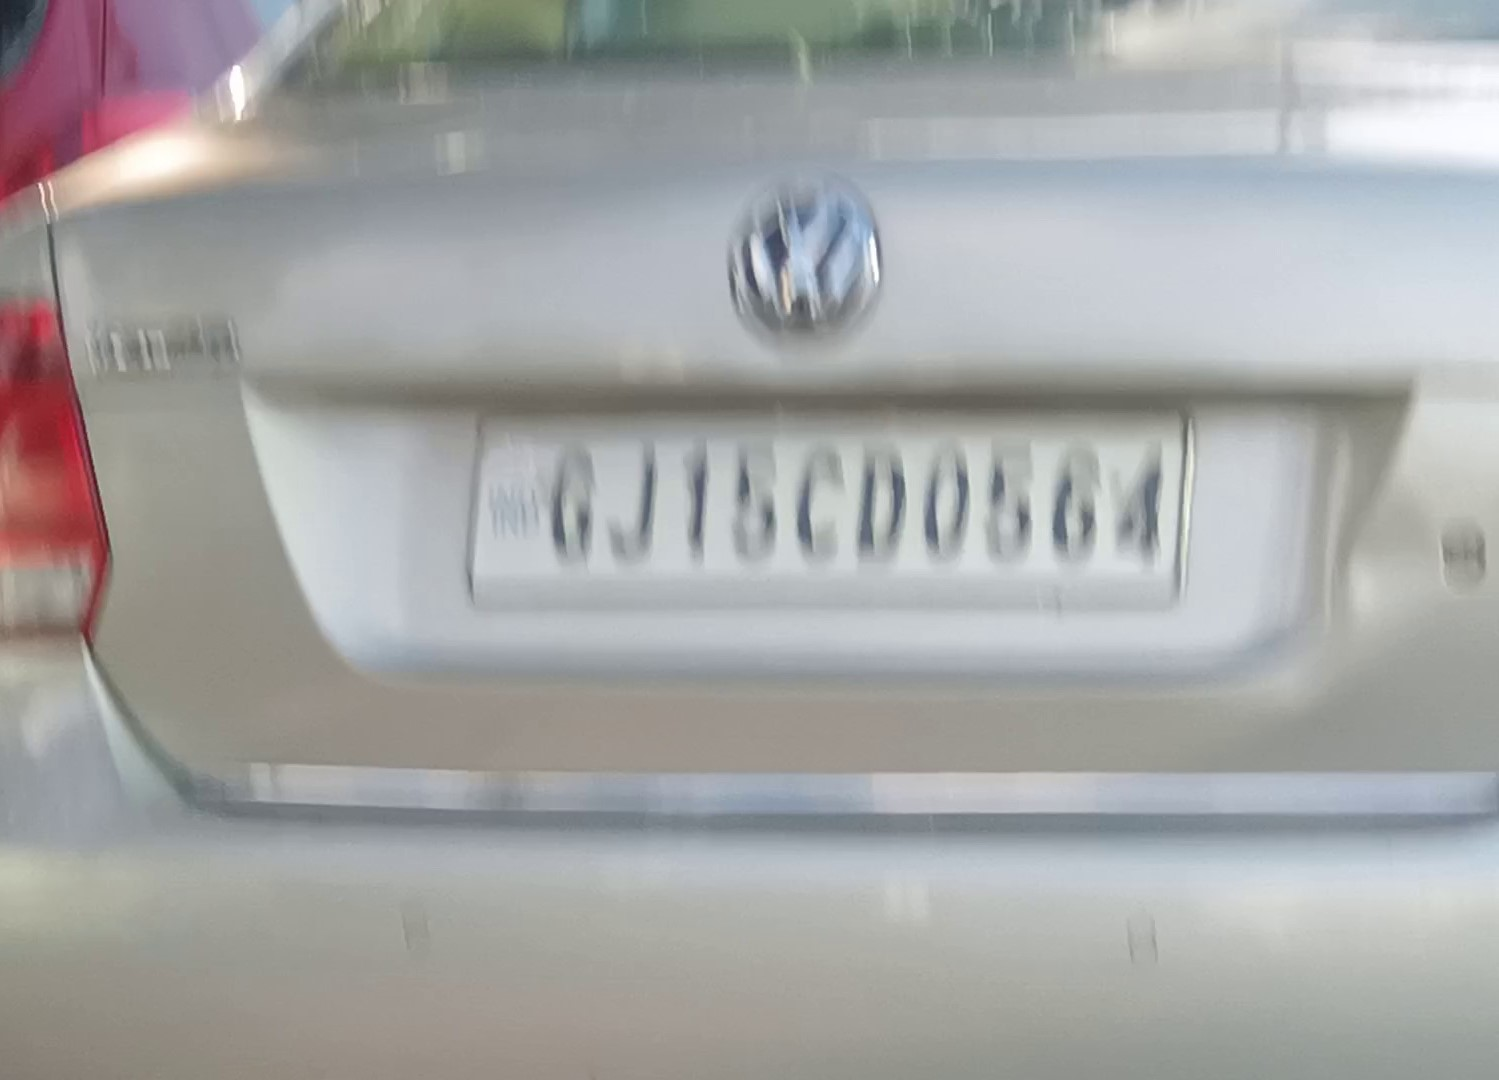GJ15D0564: (471, 421, 1190, 611)
